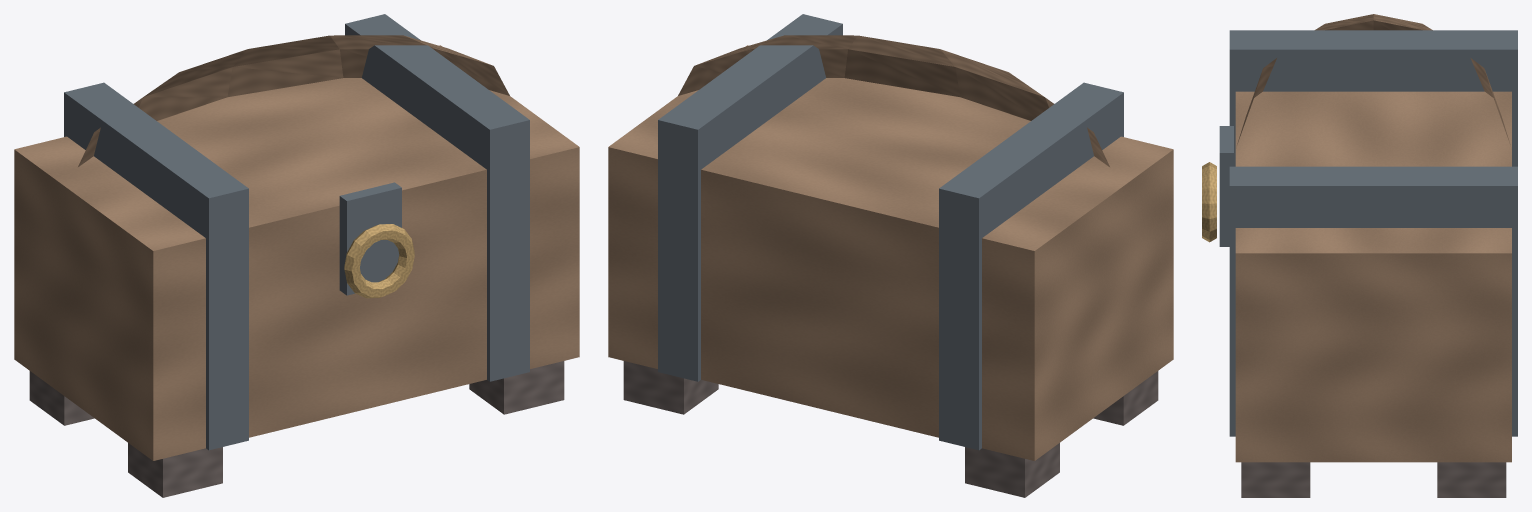
File: lantern-watch-ironbound-watch-chest__90.glb
The picture shows the model from 3 angles, left to right: view 1: azimuth 30°, elevation 25°; view 2: azimuth 150°, elevation 25°; view 3: azimuth 270°, elevation 25°; orthographic projection.
Visible parts, largest first — view 1: lantern-watch-ironbound-chest; view 2: lantern-watch-ironbound-chest; view 3: lantern-watch-ironbound-chest.
Boxes of the visible parts, x1,y1,x2,y2 form: lantern-watch-ironbound-chest: (14,14,579,497); lantern-watch-ironbound-chest: (608,14,1173,497); lantern-watch-ironbound-chest: (1202,14,1517,497).
Bounding box in the file's own units: 0.85 × 0.65 × 0.548.
4 materials, 3 textured.
